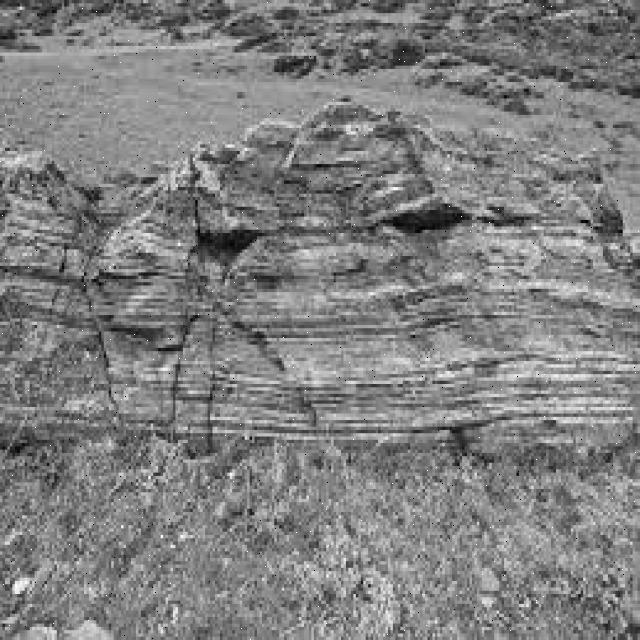Metamorphic: (2, 108, 640, 463)
